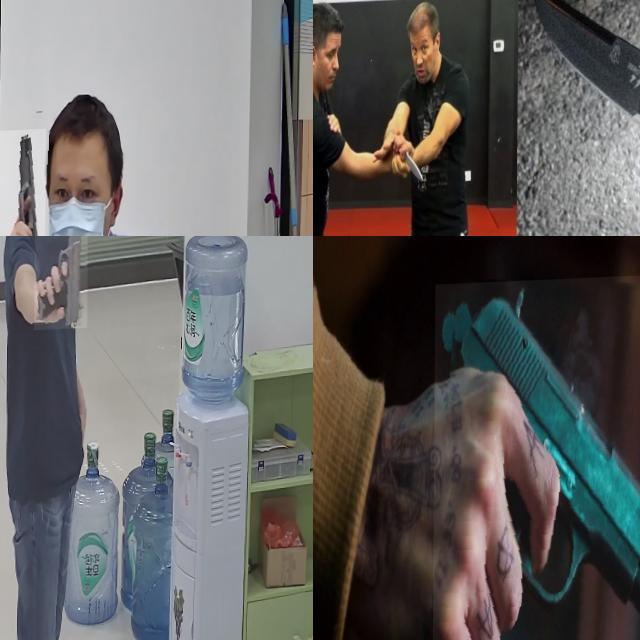-: (521, 0, 640, 184), (395, 134, 425, 186), (313, 0, 335, 20)
gun-knife-thesis - v11 Yolov5 augmented: (433, 276, 640, 640), (34, 236, 88, 333), (0, 131, 46, 236)
